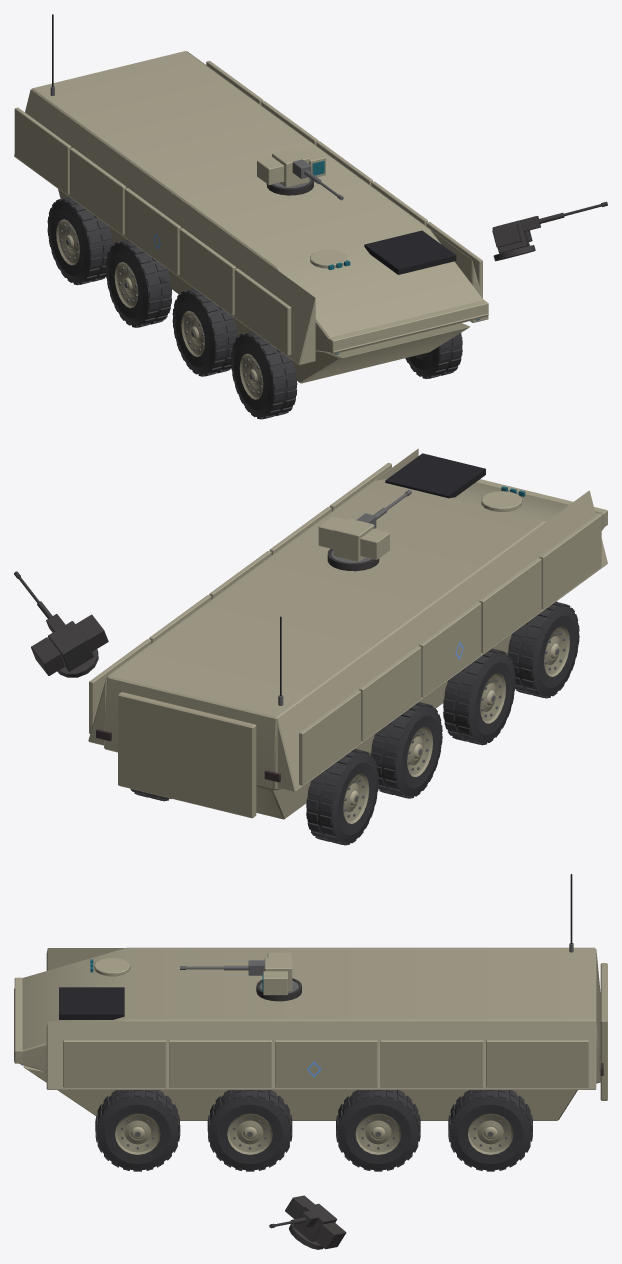
Rendered from apc__amv_xp_japan.glb.
3 views of the same model, one above another, from view 1: azimuth 30°, elevation 25°; view 2: azimuth 150°, elevation 25°; view 3: azimuth 270°, elevation 25° (orthographic). The views are drawn at different scales.
Parts seen in each view (by area): view 1: Hull_Mesh, Wheel_L3_Mesh, Wheel_L1_Mesh, Wheel_L2_Mesh, Wheel_L0_Mesh, Wreck, Turret_Mesh, Wheel_R3_Mesh; view 2: Hull_Mesh, Wheel_L0_Mesh, Wheel_L2_Mesh, Wheel_L1_Mesh, Wheel_L3_Mesh, Wreck, Turret_Mesh; view 3: Hull_Mesh, Wheel_R3_Mesh, Wheel_R2_Mesh, Wheel_R0_Mesh, Wheel_R1_Mesh, Wreck, Turret_Mesh, Gun_Mesh.
Part boxes in pixels (<box>): Hull_Mesh: <box>14,14,488,383</box>; Wheel_L3_Mesh: <box>231,331,297,419</box>; Wheel_L1_Mesh: <box>106,239,171,327</box>; Wheel_L2_Mesh: <box>172,288,238,376</box>; Wheel_L0_Mesh: <box>47,197,113,285</box>; Wreck: <box>79,179,607,417</box>; Turret_Mesh: <box>257,148,325,187</box>; Wheel_R3_Mesh: <box>405,333,462,378</box>; Hull_Mesh: <box>88,448,607,819</box>; Wheel_L0_Mesh: <box>306,749,378,845</box>; Wheel_L2_Mesh: <box>443,648,515,745</box>; Wheel_L1_Mesh: <box>370,702,442,798</box>; Wheel_L3_Mesh: <box>507,601,579,698</box>; Wreck: <box>14,548,541,842</box>; Turret_Mesh: <box>318,516,389,562</box>; Hull_Mesh: <box>14,874,607,1120</box>; Wheel_R3_Mesh: <box>95,1090,180,1171</box>; Wheel_R2_Mesh: <box>207,1090,292,1171</box>; Wheel_R0_Mesh: <box>448,1090,532,1171</box>; Wheel_R1_Mesh: <box>336,1090,420,1171</box>; Wreck: <box>256,978,398,1249</box>; Turret_Mesh: <box>259,952,298,995</box>; Gun_Mesh: <box>180,960,265,975</box>.
Size of what is drawn, in the model's own units: 6.53 by 3.35 by 8.15.
